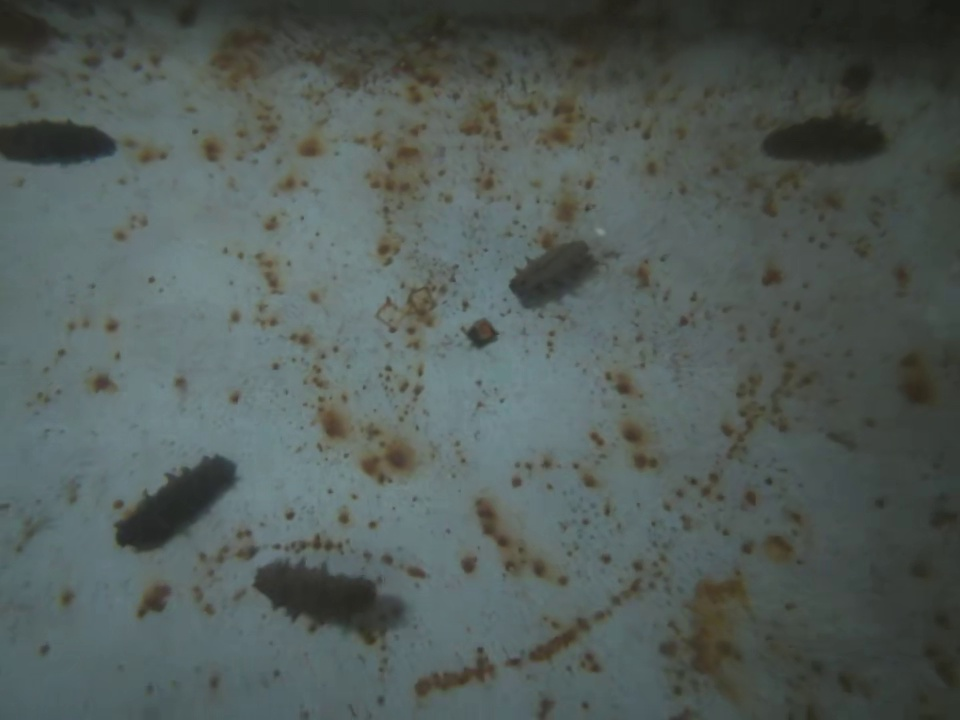seacucumber: (110, 453, 241, 553), (252, 559, 382, 630), (1, 115, 136, 171), (759, 110, 888, 167), (510, 237, 593, 298)
